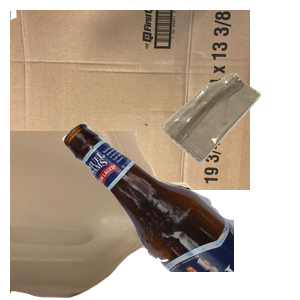cardboard: (10, 10, 250, 190)
glass: (60, 120, 300, 300)
plastic: (10, 131, 196, 300)
trash: (158, 71, 300, 227)
